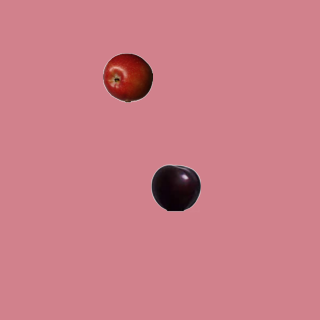Apple Braeburn: (102, 52, 152, 102)
Cherry Wax Black: (150, 162, 200, 212)
